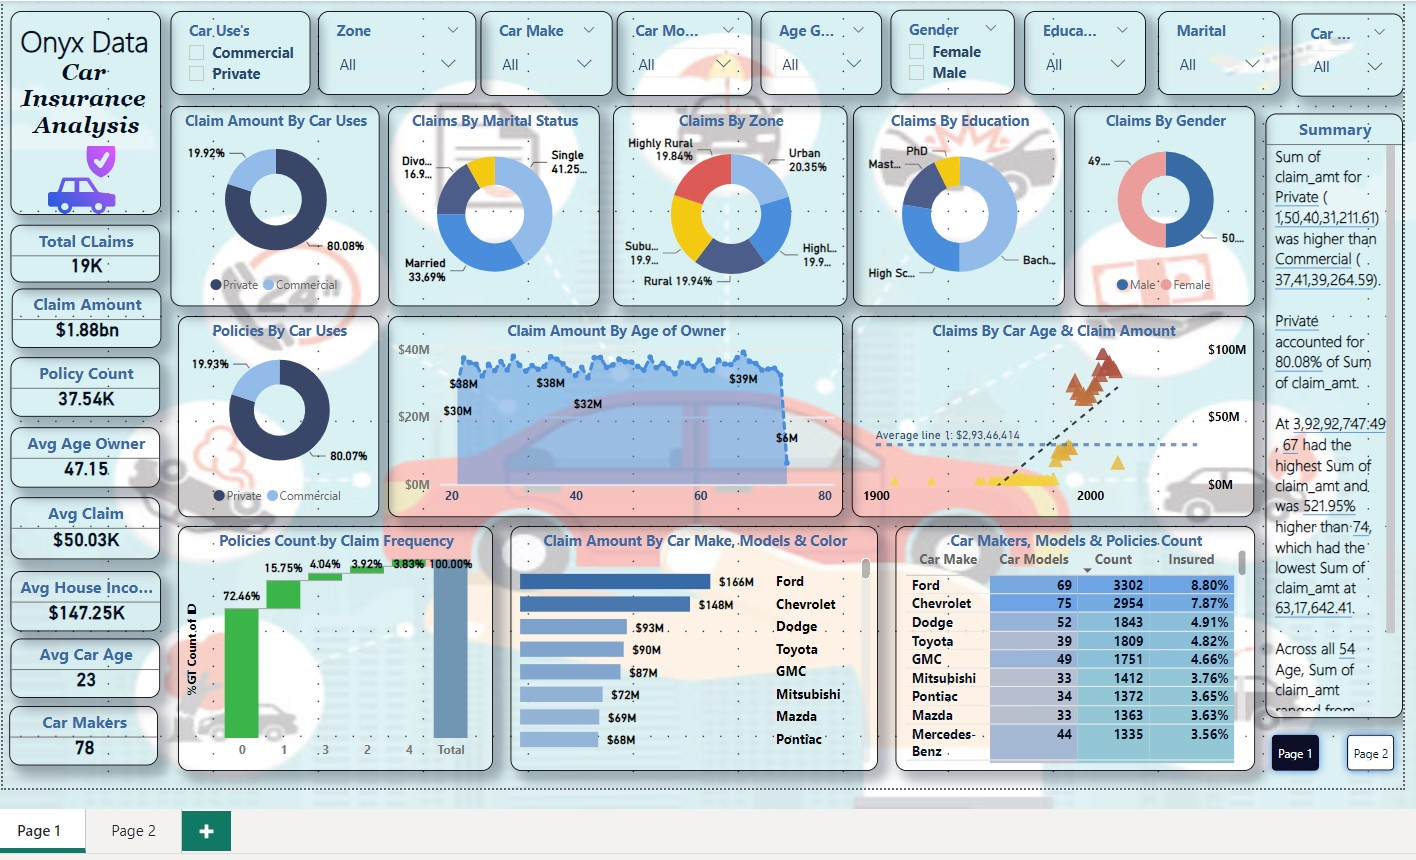

This screenshot's page, from the dashboard's own definition file:
{"tool":"powerbi","page":{"name":"Page 1","canvas":[1280,720],"ordinal":0},"visuals":[{"type":"slicer","fields":{"Values":["Insurance Policies.car_use"]},"box":[153.6,9.4,128.3,76.8],"z":0},{"type":"clusteredBarChart","title":"Claim Amount By Car Make, Models & Color","fields":{"Y":["Sum(Insurance Policies.claim_amt)"],"Category":["Insurance Policies.car_make","Insurance Policies.car_model","Insurance Policies.car_color"]},"box":[464,480,336,224],"z":1000},{"type":"donutChart","title":"Claims By Gender","fields":{"Category":["Insurance Policies.gender"],"Y":["Sum(Insurance Policies.claim_amt)"]},"box":[979.7,96.5,165.8,183.6],"z":2000},{"type":"donutChart","title":"Claims By Marital Status","fields":{"Y":["Sum(Insurance Policies.claim_amt)"],"Category":["Insurance Policies.marital_status"]},"box":[352.2,96.5,193.9,183.6],"z":3000},{"type":"areaChart","title":"Claim Amount By Age of Owner","fields":{"Category":["Insurance Policies.Age"],"Y":["Sum(Insurance Policies.claim_amt)"]},"box":[352,288,416,184],"z":4000},{"type":"donutChart","title":"Claim Amount By Car Uses","fields":{"Category":["Insurance Policies.car_use"],"Y":["Sum(Insurance Policies.claim_amt)"]},"box":[153.6,96.5,191.1,183.6],"z":5000},{"type":"donutChart","title":"Claims By Zone","fields":{"Y":["Sum(Insurance Policies.claim_amt)"],"Category":["Insurance Policies.coverage_zone"]},"box":[557.3,96.5,214.5,183.6],"z":6000},{"type":"scatterChart","title":"Claims By Car Age & Claim Amount","fields":{"X":["Insurance Policies.car_year"],"Y":["Sum(Insurance Policies.claim_amt)"]},"box":[776,288,368,184],"z":7000},{"type":"donutChart","title":"Claims By Education","fields":{"Y":["Sum(Insurance Policies.claim_amt)"],"Category":["Insurance Policies.education"]},"box":[777.4,96.5,193.9,183.6],"z":8000},{"type":"waterfallChart","title":"Policies Count by Claim Frequency","fields":{"Category":["Insurance Policies.claim_freq"],"Y":["CountNonNull(Insurance Policies.ID)"]},"box":[160,480,288,224],"z":9000},{"type":"card","title":"Claim Amount","fields":{"Values":["Sum(Insurance Policies.claim_amt)"]},"box":[7.5,263.2,136.7,54.3],"z":10000},{"type":"card","title":"Total CLaims","fields":{"Values":["Sum(Insurance Policies.claim_freq)"]},"box":[6.6,204.2,136.7,52.5],"z":11000},{"type":"card","title":"Policy Count","fields":{"Values":["Count(Insurance Policies.ID)"]},"box":[6.6,325.9,136.7,54.3],"z":12000},{"type":"card","title":"Avg Age Owner","fields":{"Values":["Avg(Insurance Policies.Age)"]},"box":[6.6,389.6,136.7,55.3],"z":13000},{"type":"card","title":"Avg Claim","fields":{"Values":["Avg(Insurance Policies.claim_amt)"]},"box":[6.6,453.3,136.7,57.1],"z":14000},{"type":"card","title":"Avg House Income","fields":{"Values":["Avg(Insurance Policies.household_income)"]},"box":[6.6,520.8,137.7,55.3],"z":15000},{"type":"card","title":"Avg Car Age","fields":{"Values":["Avg(Insurance Policies.Car_Age)"]},"box":[6.6,582.6,136.7,54.3],"z":16000},{"type":"textbox","box":[6.6,9.4,137.7,186.4],"z":17000},{"type":"slicer","fields":{"Values":["Insurance Policies.education"]},"box":[934.1,9,111.5,76.6],"z":18000},{"type":"slicer","fields":{"Values":["Insurance Policies.gender"]},"box":[811.1,8.4,113.3,77.7],"z":19000},{"type":"slicer","fields":{"Values":["Insurance Policies.Age Group"]},"box":[693.1,9.4,111.5,76.8],"z":20000},{"type":"slicer","fields":{"Values":["Insurance Policies.coverage_zone"]},"box":[287.5,9.4,145.2,76.8],"z":21000},{"type":"slicer","fields":{"Values":["Insurance Policies.marital_status"]},"box":[1056.5,9.4,112.4,76.8],"z":22000},{"type":"slicer","fields":{"Values":["Insurance Policies.car_make"]},"box":[436.5,9.4,120.8,77.7],"z":23000},{"type":"slicer","fields":{"Values":["Insurance Policies.car_model"]},"box":[561,9.4,123.6,77.7],"z":24000},{"type":"slicer","fields":{"Values":["Insurance Policies.Car_Age"]},"box":[1178.3,11.2,102.1,75.9],"z":25000},{"type":"pageNavigator","box":[1151.5,662.5,128.5,49.6],"z":26000},{"type":"textbox","title":"Summary","box":[1154,102.7,125.9,552.5],"z":27000},{"type":"tableEx","title":"Car Makers, Models & Policies Count","fields":{"Values":["Insurance Policies.car_make","Count(Insurance Policies.car_model)","Insurance Policies.ID","CountNonNull(Insurance Policies.ID)"]},"box":[815.8,480,329,224.2],"z":28000},{"type":"donutChart","title":"Policies By Car Uses","fields":{"Category":["Insurance Policies.car_use"],"Y":["Count(Insurance Policies.ID)"]},"box":[160,288,184,184],"z":29000},{"type":"card","title":"Car Makers","fields":{"Values":["Count(Insurance Policies.car_make)"]},"box":[6,645,136,54],"z":30000},{"type":"image","box":[0,123.9,144.2,80],"z":31000}]}

Visuals, with their boxes in screenshot pixels (x1, y1, x2, y2):
slicer - Insurance Policies.car_use: [168,10,308,94]
"Claim Amount By Car Make, Models & Color" clusteredBarChart: [506,524,873,768]
"Claims By Gender" donutChart: [1069,105,1250,306]
"Claims By Marital Status" donutChart: [384,105,596,306]
"Claim Amount By Age of Owner" areaChart: [384,314,838,515]
"Claim Amount By Car Uses" donutChart: [168,105,376,306]
"Claims By Zone" donutChart: [608,105,842,306]
"Claims By Car Age & Claim Amount" scatterChart: [847,314,1248,515]
"Claims By Education" donutChart: [848,105,1060,306]
"Policies Count by Claim Frequency" waterfallChart: [175,524,489,768]
"Claim Amount" card: [8,287,157,346]
"Total CLaims" card: [7,223,156,280]
"Policy Count" card: [7,356,156,415]
"Avg Age Owner" card: [7,425,156,485]
"Avg Claim" card: [7,495,156,557]
"Avg House Income" card: [7,568,157,629]
"Avg Car Age" card: [7,636,156,695]
textbox: [7,10,157,214]
slicer - Insurance Policies.education: [1019,10,1141,93]
slicer - Insurance Policies.gender: [885,9,1008,94]
slicer - Insurance Policies.Age Group: [756,10,878,94]
slicer - Insurance Policies.coverage_zone: [314,10,472,94]
slicer - Insurance Policies.marital_status: [1153,10,1275,94]
slicer - Insurance Policies.car_make: [476,10,608,95]
slicer - Insurance Policies.car_model: [612,10,747,95]
slicer - Insurance Policies.Car_Age: [1285,12,1397,95]
pageNavigator: [1256,723,1396,777]
"Summary" textbox: [1259,112,1396,715]
"Car Makers, Models & Policies Count" tableEx: [890,524,1249,768]
"Policies By Car Uses" donutChart: [175,314,375,515]
"Car Makers" card: [7,704,155,763]
image: [0,135,157,222]
